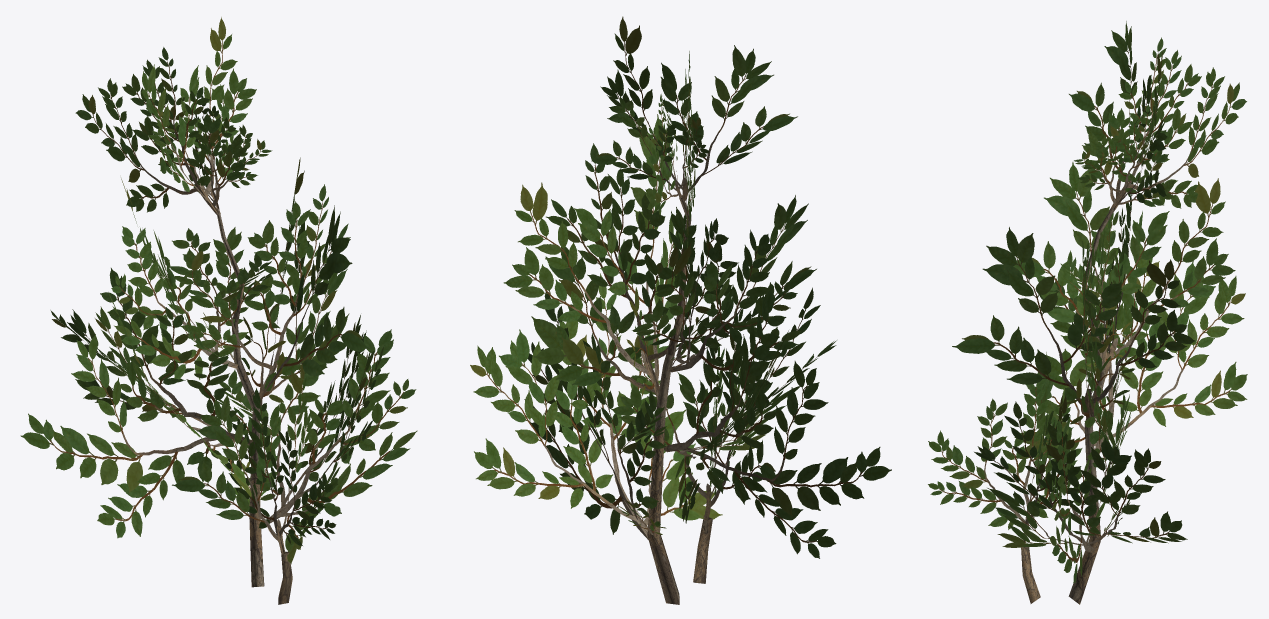
The model's file is bush-lods-30d53435a011.glb.
3 renders of one model, left to right at view 1: azimuth 30°, elevation 25°; view 2: azimuth 150°, elevation 25°; view 3: azimuth 270°, elevation 25°, orthographic. The views are drawn at different scales.
Parts seen in each view (by area): view 1: Bush_medium_001_LOD0; view 2: Bush_medium_001_LOD0; view 3: Bush_medium_001_LOD0.
Part boxes in pixels (x1,y1,x2,y2): Bush_medium_001_LOD0: [20, 17, 417, 604]; Bush_medium_001_LOD0: [470, 16, 891, 604]; Bush_medium_001_LOD0: [928, 21, 1247, 604].
Size of the model in its own units: 0.7209 by 0.9913 by 0.531.
2 materials, 2 textured.
